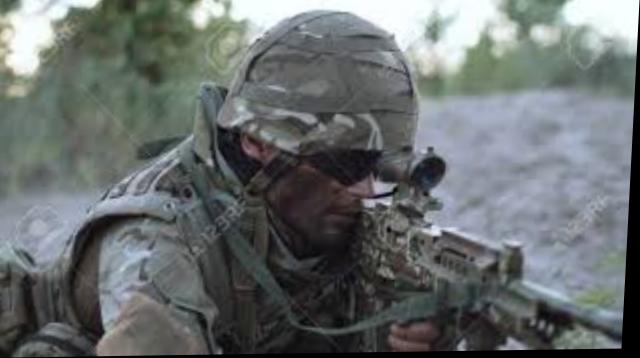other: (0, 14, 453, 351)
